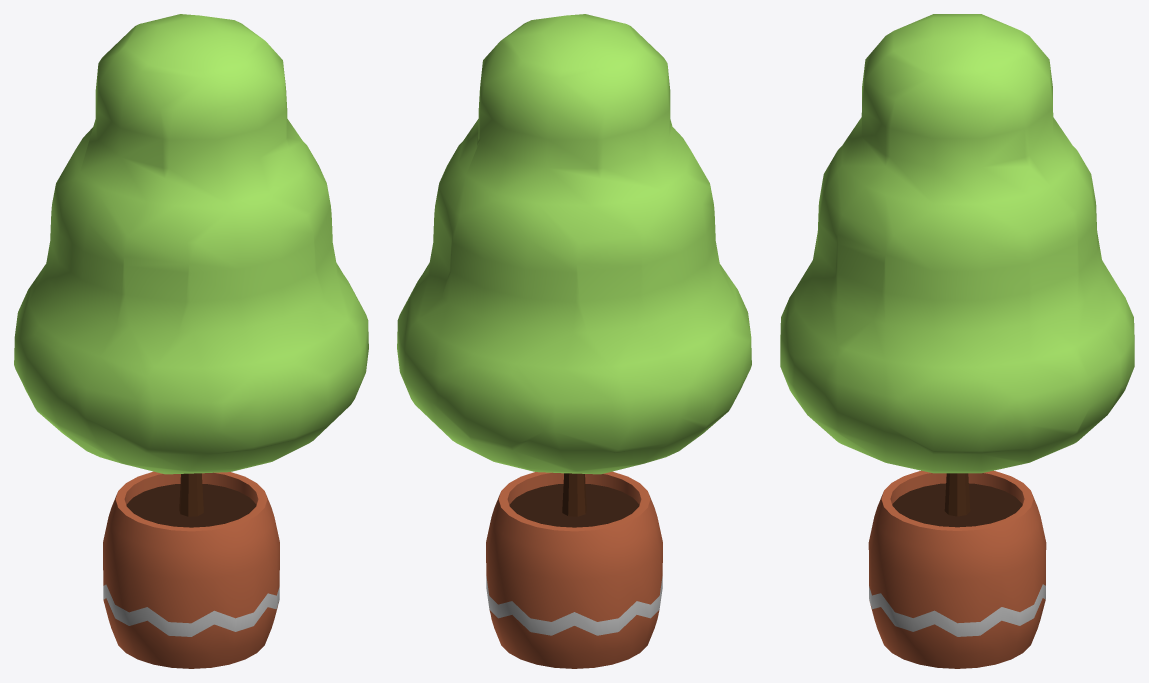
File: pottedTree.fbx
3 views of the same model, side by side, from view 1: azimuth 30°, elevation 25°; view 2: azimuth 150°, elevation 25°; view 3: azimuth 270°, elevation 25° (orthographic).
Visible parts, largest first — view 1: Potted Tree; view 2: Potted Tree; view 3: Potted Tree.
Boxes of the visible parts, x1,y1,x2,y2 form: Potted Tree: [14, 14, 368, 668]; Potted Tree: [397, 14, 751, 668]; Potted Tree: [780, 14, 1134, 668].
Size of the model in its own units: 93.24 by 93.24 by 177.
